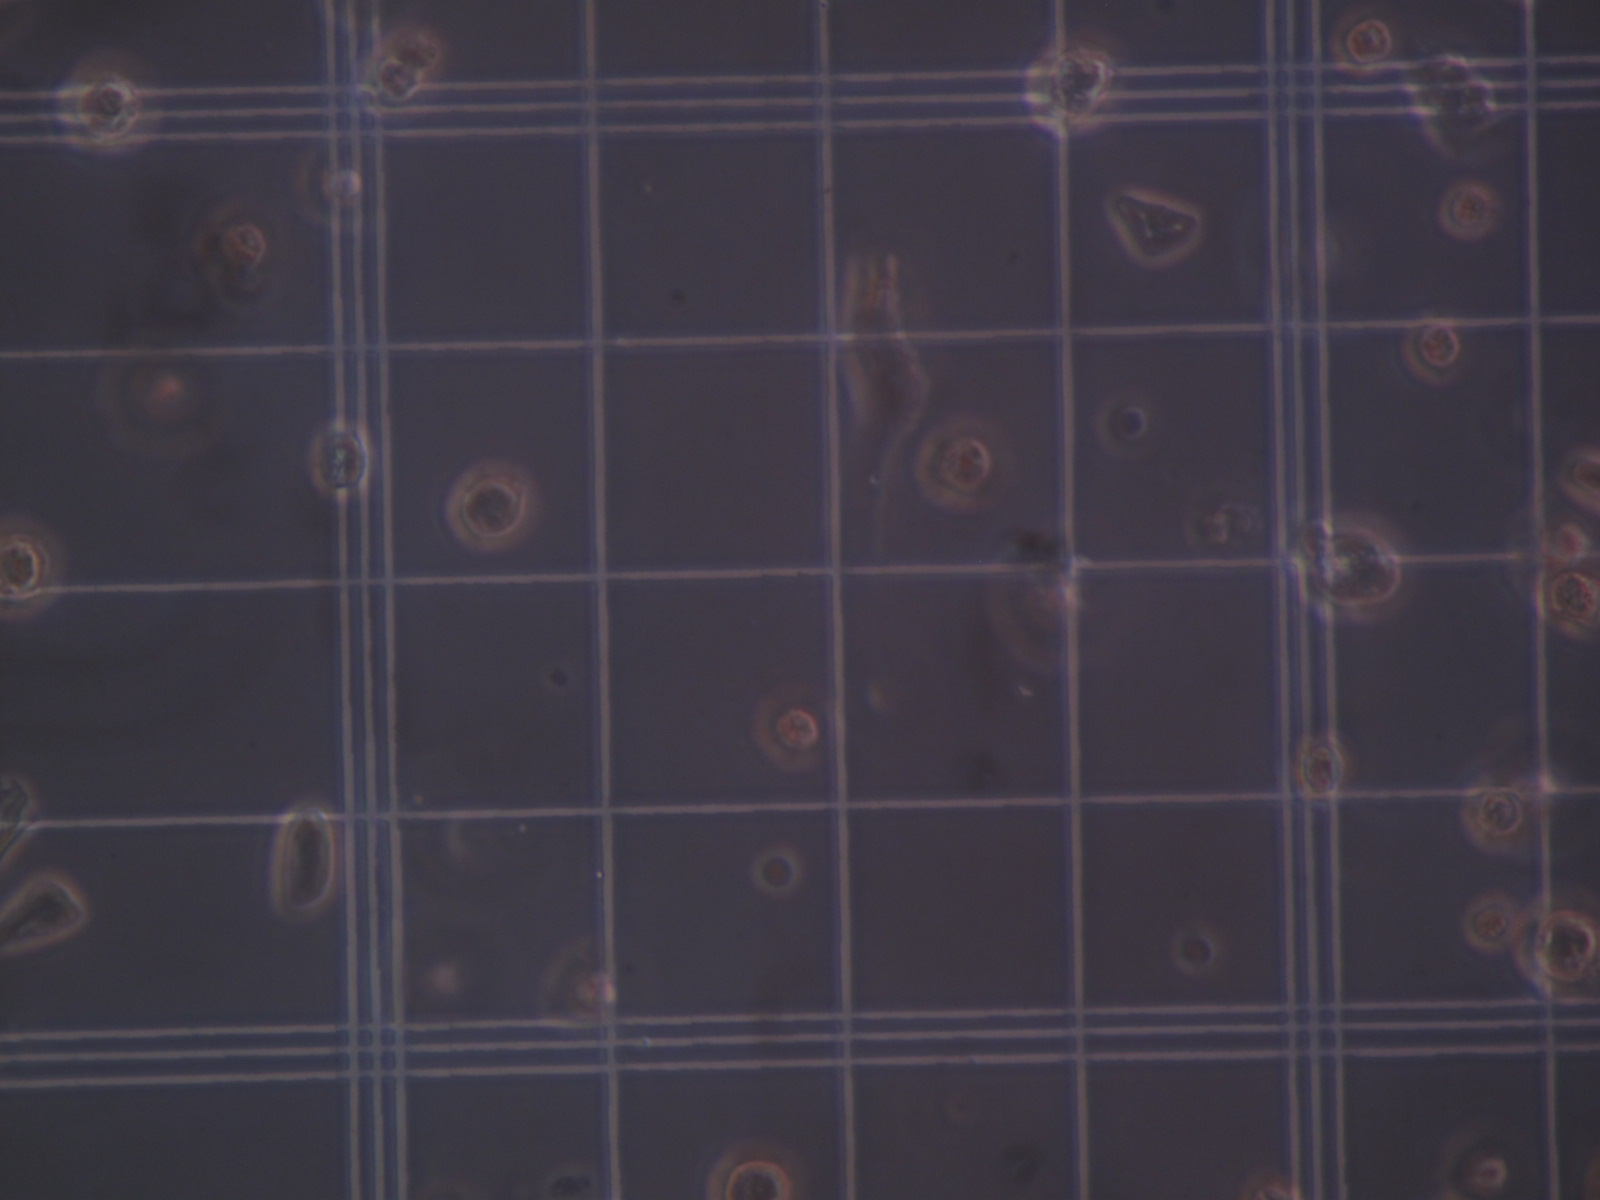hemo: (1286, 512, 1415, 625), (57, 61, 163, 158), (1516, 887, 1600, 995), (1023, 45, 1116, 137), (270, 799, 338, 925), (447, 461, 535, 551), (915, 415, 997, 511), (533, 942, 616, 1035), (1, 516, 66, 616), (290, 142, 362, 229), (708, 1136, 803, 1200), (753, 686, 821, 771), (1434, 1127, 1508, 1200), (1328, 5, 1397, 78), (1534, 568, 1600, 644), (309, 417, 370, 495), (202, 205, 266, 279), (1459, 778, 1523, 850), (1398, 316, 1461, 386), (372, 18, 445, 73), (359, 52, 425, 112), (1459, 892, 1519, 953), (1293, 734, 1346, 802), (1096, 395, 1149, 460), (1439, 182, 1498, 236), (1537, 513, 1592, 568), (1557, 446, 1600, 512), (750, 848, 803, 897), (1174, 928, 1216, 978)
